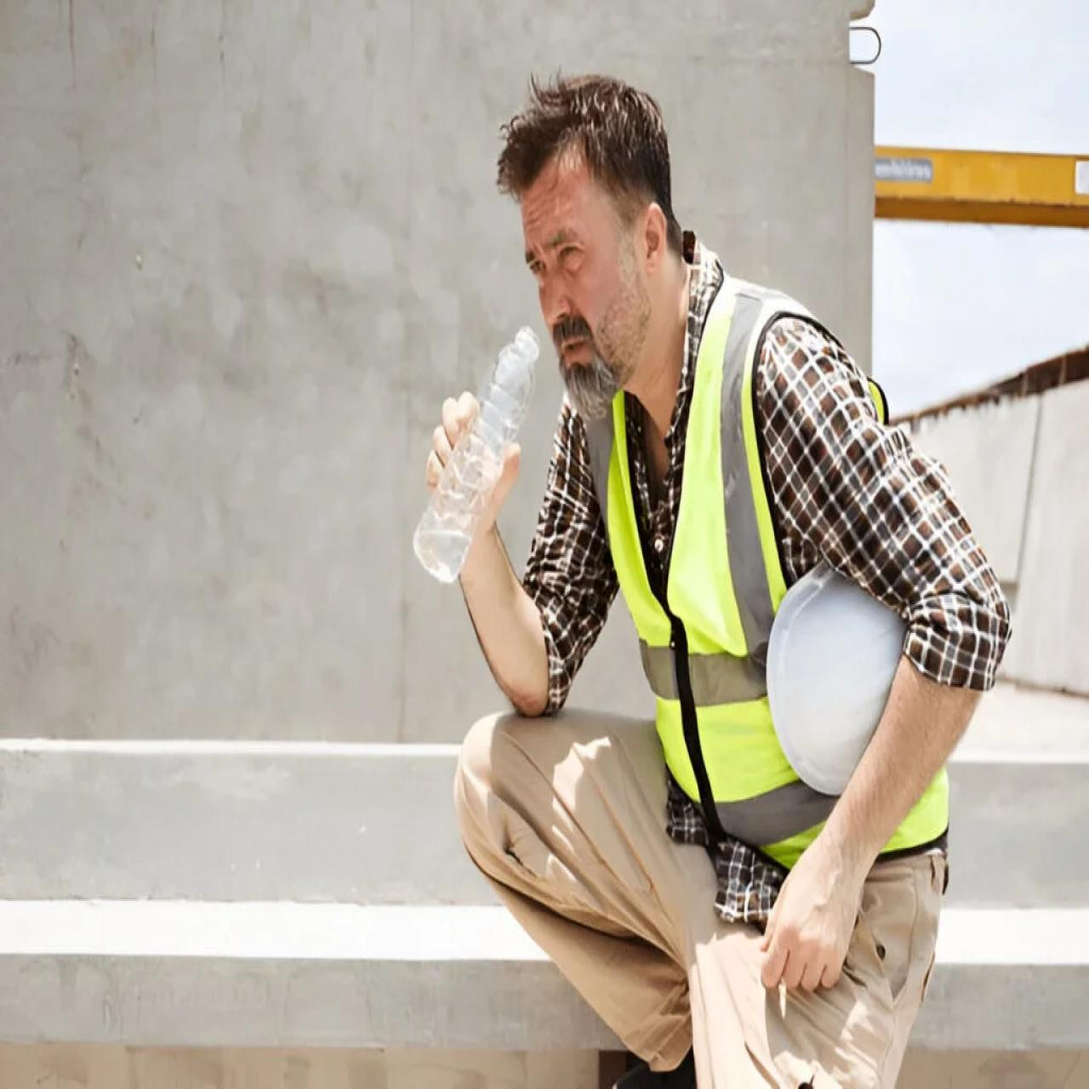Person: (402, 50, 1028, 1089)
Safety_Vest: (554, 273, 989, 873)
